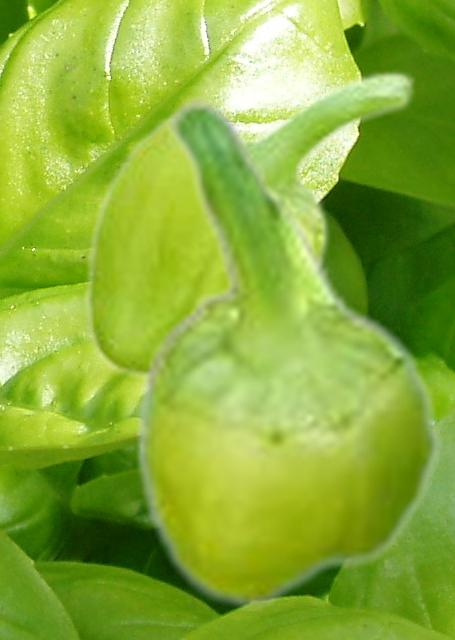bell_pepper: (133, 99, 442, 609), (82, 68, 416, 386)
